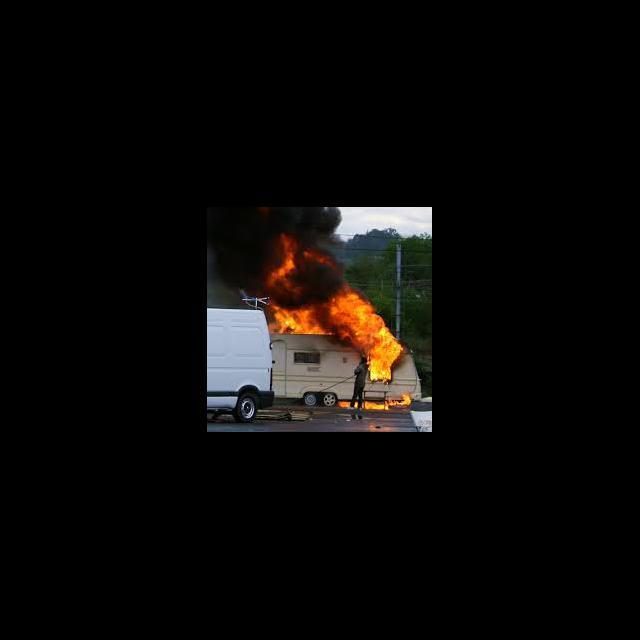Fire: (266, 306, 399, 388), (266, 236, 341, 306), (338, 396, 412, 410), (336, 294, 374, 310)
Smoke: (208, 208, 266, 288), (264, 208, 344, 236)
